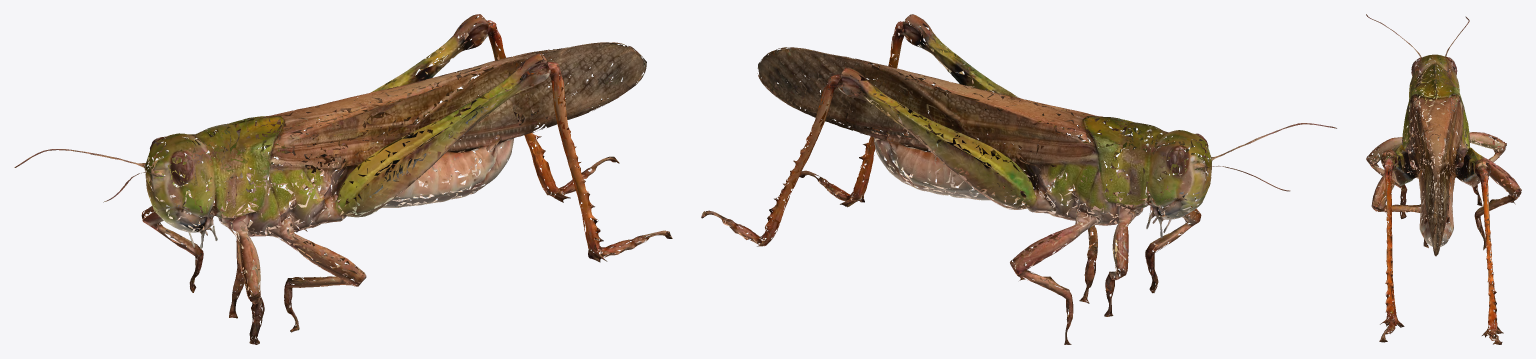
Rendered from cc0-migratory-locust.glb.
3 renders of one model, left to right at view 1: azimuth 30°, elevation 25°; view 2: azimuth 150°, elevation 25°; view 3: azimuth 270°, elevation 25°, orthographic. The views are drawn at different scales.
Visible parts, largest first — view 1: Object_6, Object_7, Object_8; view 2: Object_6, Object_7, Object_8; view 3: Object_6, Object_7, Object_8.
Boxes of the visible parts, <box> form: Object_6: <box>141,14,645,344</box>; Object_7: <box>137,15,668,344</box>; Object_8: <box>14,14,672,344</box>; Object_6: <box>721,15,1211,322</box>; Object_7: <box>705,15,1212,344</box>; Object_8: <box>701,14,1336,344</box>; Object_6: <box>1366,54,1520,340</box>; Object_7: <box>1366,56,1521,341</box>; Object_8: <box>1366,14,1521,344</box>.
Bounding box in the file's own units: 5.81 × 2.29 × 1.79.
1 material, 1 textured.
